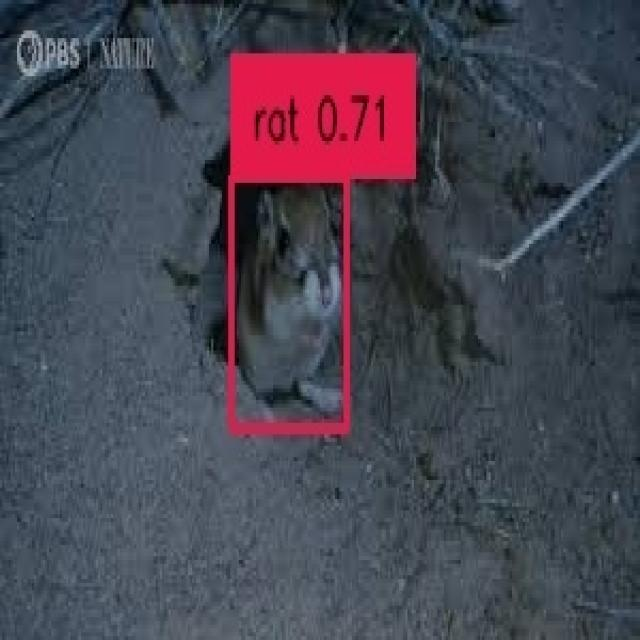rat: (228, 171, 344, 423)
